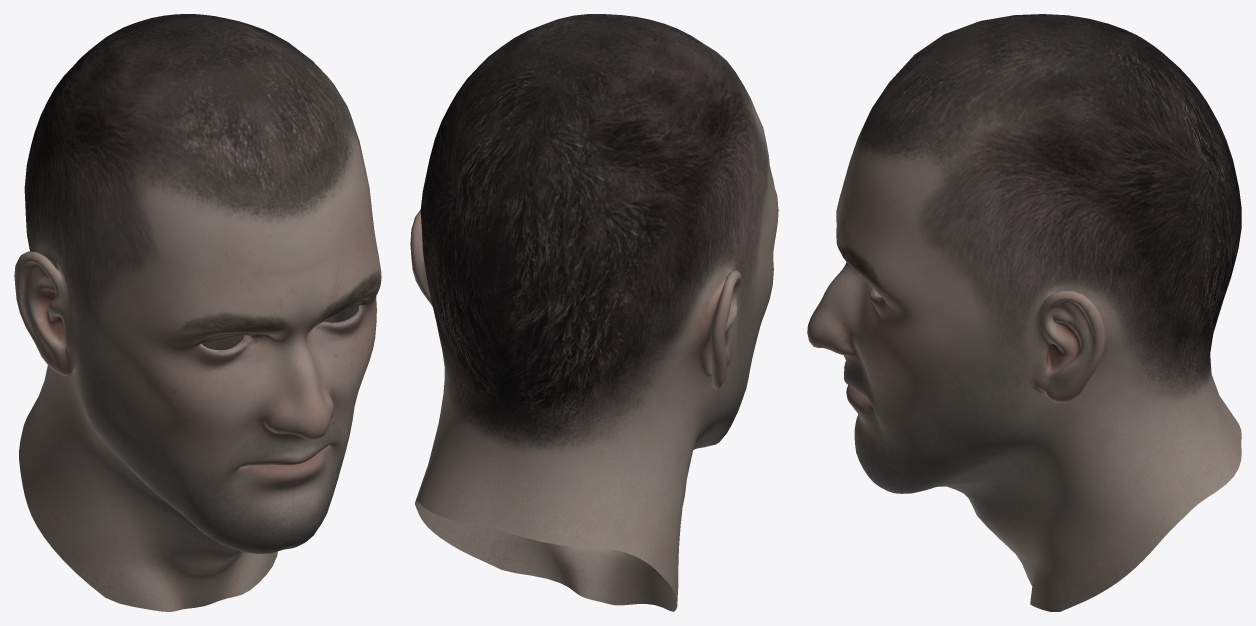
The model's file is bald_head.glb.
3 views of the same model, side by side, from view 1: azimuth 30°, elevation 25°; view 2: azimuth 150°, elevation 25°; view 3: azimuth 270°, elevation 25° (orthographic).
Visible parts, largest first — view 1: Object_2; view 2: Object_2; view 3: Object_2.
Boxes of the visible parts, x1=… form: Object_2: x1=14, y1=14, x2=381, y2=611; Object_2: x1=410, y1=14, x2=778, y2=611; Object_2: x1=807, y1=14, x2=1241, y2=611.
Size of the model in its own units: 0.2729 by 0.4692 by 0.3295.
Materials: 1 (1 with a texture image).
